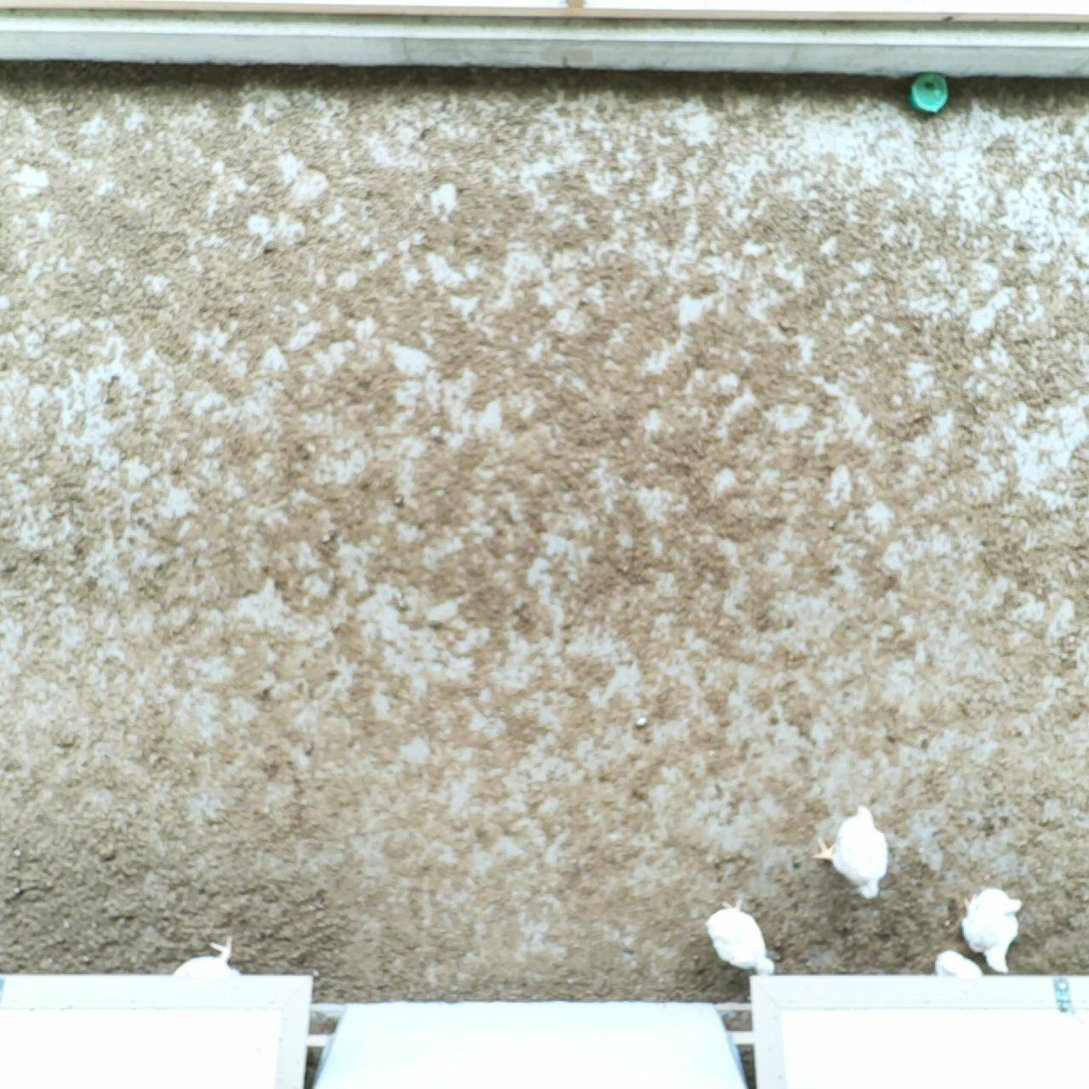chicken: (813, 796, 894, 907), (695, 895, 782, 981), (959, 879, 1028, 984), (166, 933, 248, 981), (932, 944, 990, 982)
